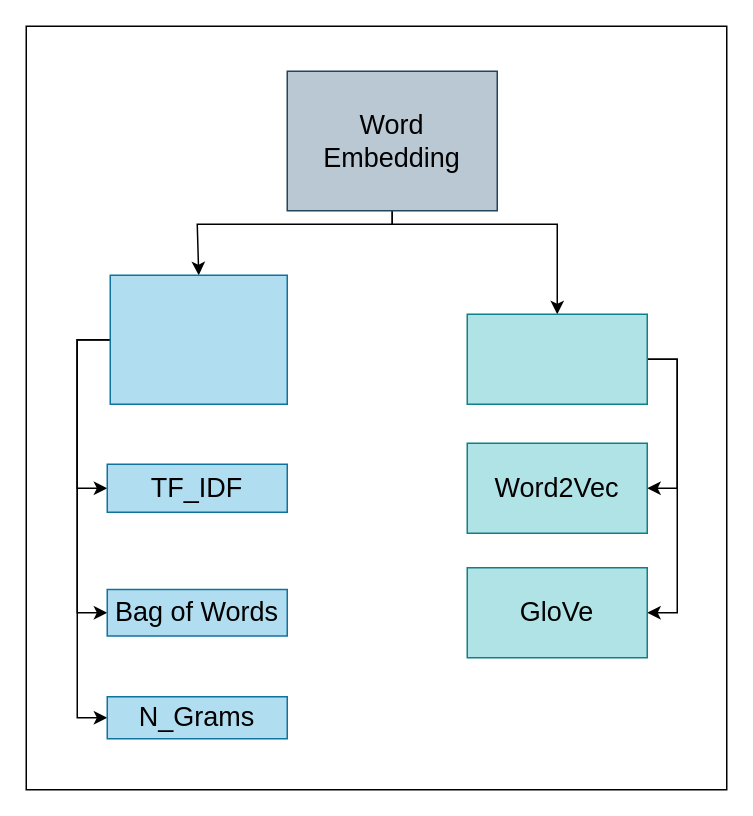
The diagram is 753 pixels wide and 816 high, and some of its shapes have lost their labels. Here are the shapes that lost their labels. From the top down, the centre of each, then its label:
the point at 198,339: Traditional Word Embedding
the point at 556,358: Static Word Embedding
